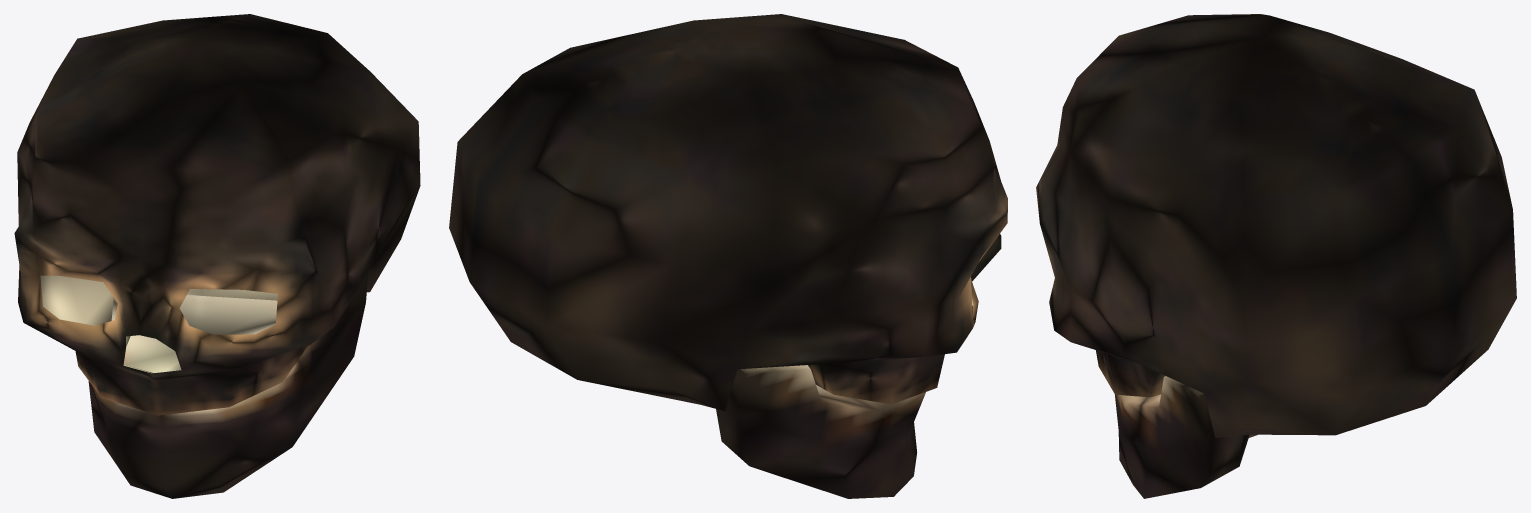
The model's file is ogreboss-super-boulder-lod0.glb.
The picture shows the model from 3 angles, left to right: view 1: azimuth 30°, elevation 25°; view 2: azimuth 150°, elevation 25°; view 3: azimuth 270°, elevation 25°; orthographic projection. The views are drawn at different scales.
Parts seen in each view (by area): view 1: mesh0; view 2: mesh0; view 3: mesh0.
Boxes of the visible parts, <box> form: mesh0: <box>14,14,420,498</box>; mesh0: <box>449,14,1007,498</box>; mesh0: <box>1036,14,1516,498</box>.
Bounding box in the file's own units: 15.53 × 14.71 × 13.77.
Materials: 1 (1 with a texture image).
